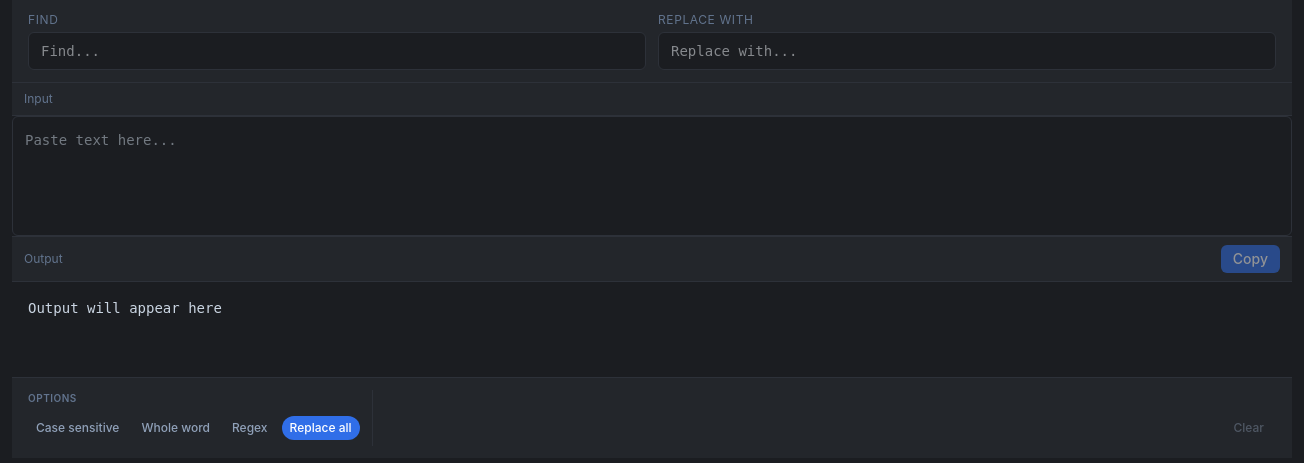
Scenario: FindReplaceTool › replace all vs replace first — toggle Replace all off shows only first replaced
Type "cat and cat" into the text box named "text to search in". click: coordinates (652, 176)
box: x1=13 y1=117 x2=1291 y2=235
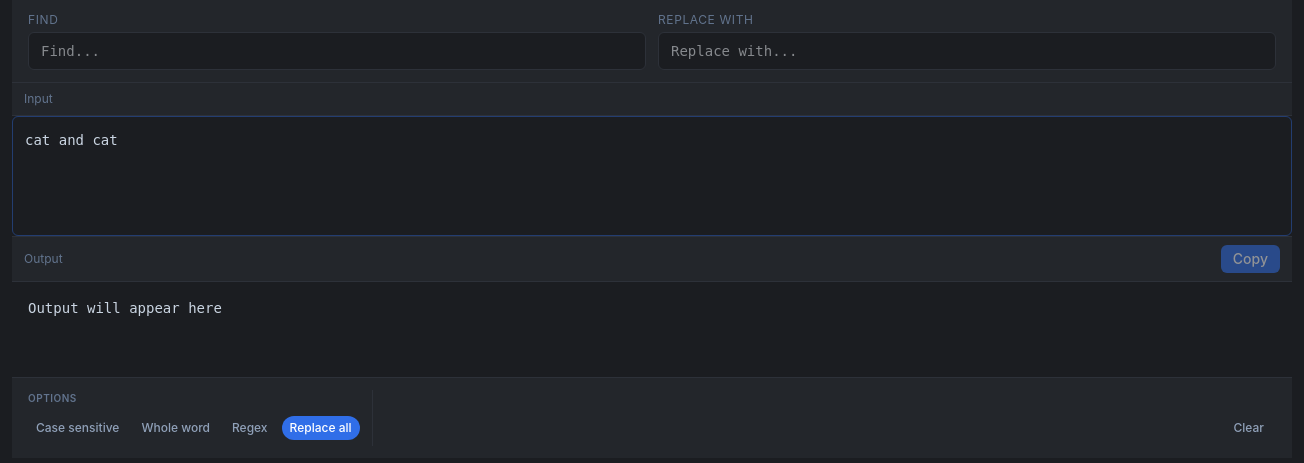
Type "cat" into the field labelled "Find...". click: coordinates (337, 51)
box: x1=28 y1=32 x2=646 y2=70
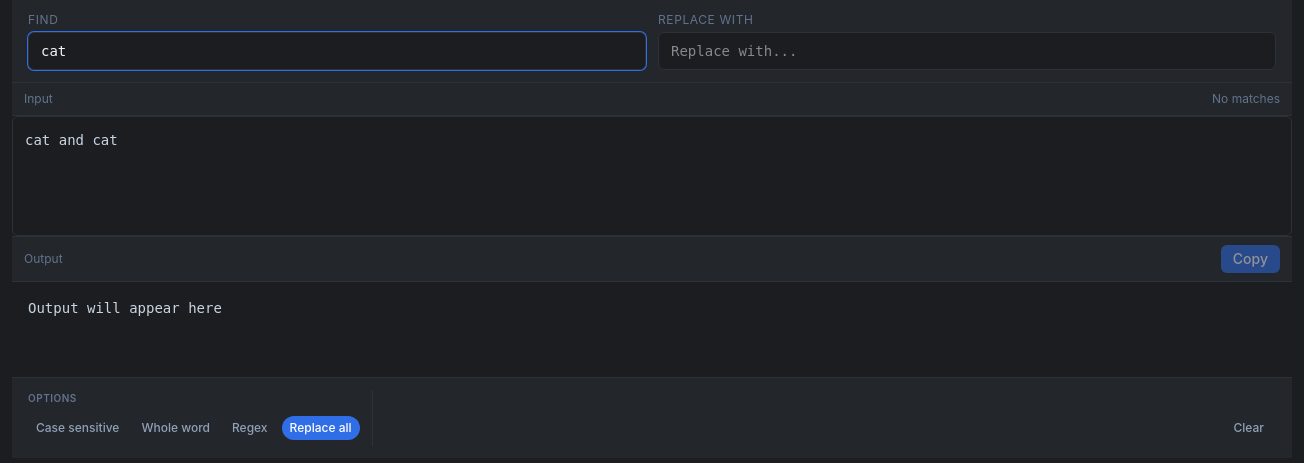
Type "dog" into the field labelled "Replace with...". click: coordinates (967, 51)
box: x1=658 y1=32 x2=1276 y2=70
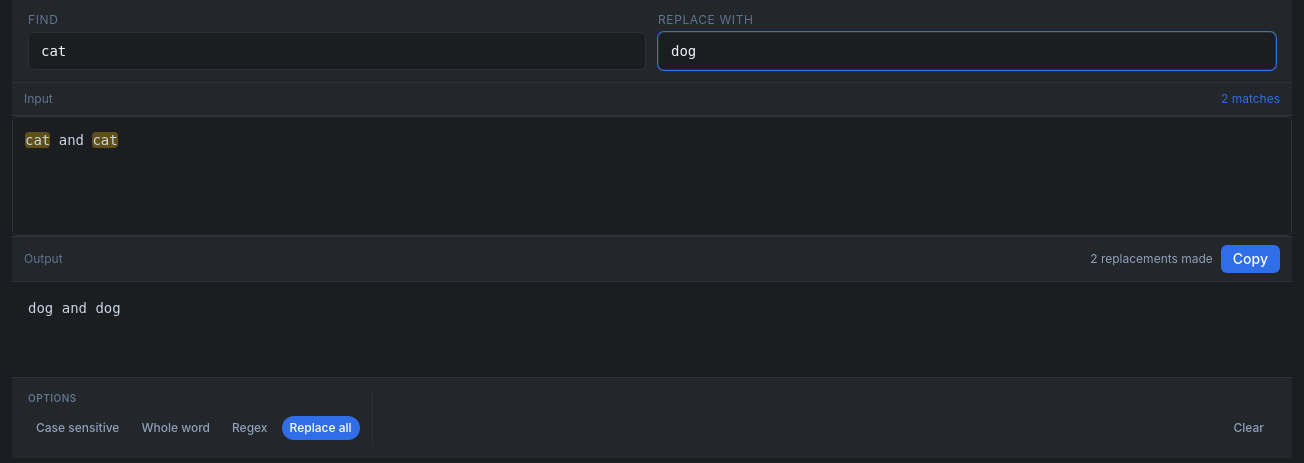
Result: the text named "find replace output" reads "dog and dog" at x1=28 y1=300 x2=121 y2=316
Click the button "Replace all". click: coordinates (321, 428)
box: x1=282 y1=416 x2=360 y2=440
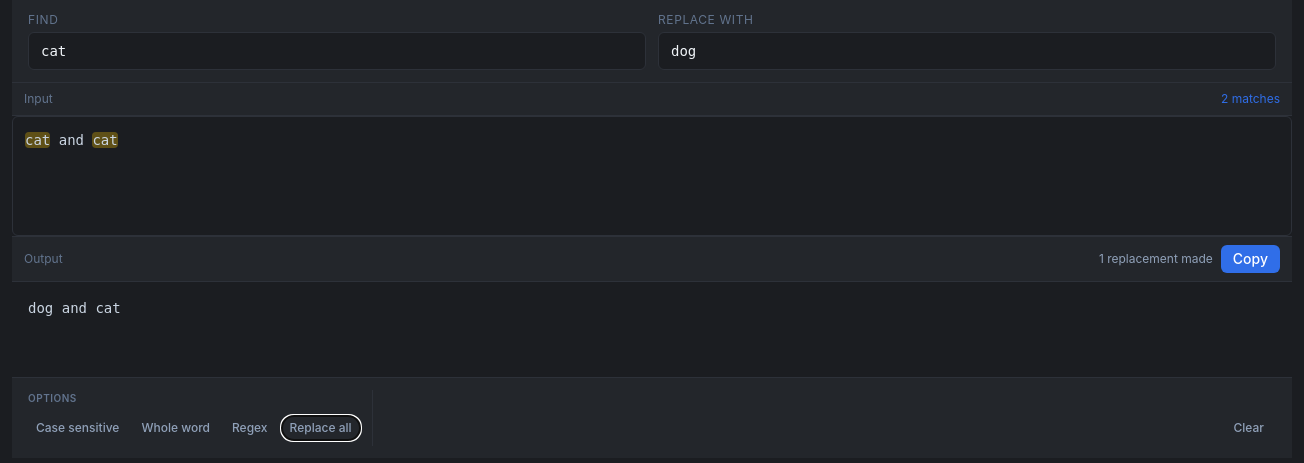
Result: the text named "find replace output" reads "dog and cat" at x1=28 y1=300 x2=121 y2=316
